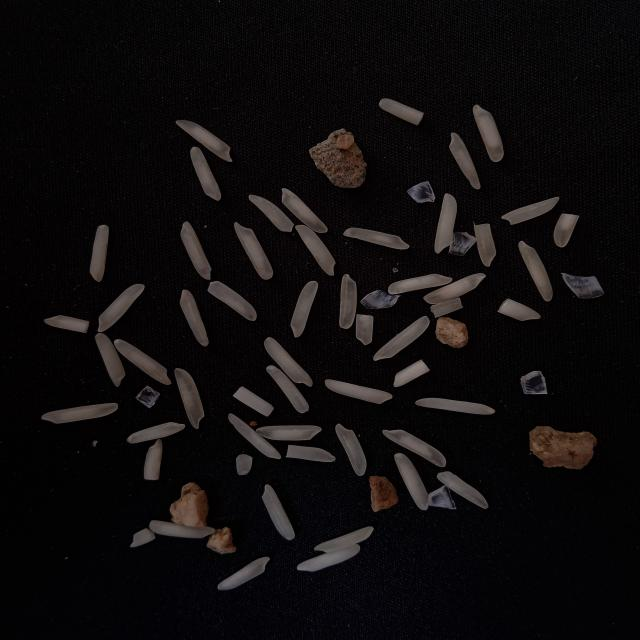Broken: (208, 280, 257, 322), (437, 471, 488, 509), (248, 195, 294, 232), (501, 196, 559, 225), (378, 98, 424, 126), (232, 386, 274, 416), (498, 298, 542, 321), (394, 359, 429, 387), (474, 223, 496, 267), (554, 214, 579, 248), (286, 445, 336, 462), (44, 315, 90, 333), (144, 439, 162, 480), (430, 297, 463, 318), (355, 313, 374, 346), (130, 528, 156, 547), (236, 454, 253, 475)
Full: (114, 339, 172, 385), (228, 413, 282, 460), (374, 316, 430, 361), (176, 120, 234, 163), (382, 429, 447, 467), (264, 337, 312, 387), (234, 222, 273, 280), (98, 284, 144, 332), (295, 224, 337, 276), (518, 240, 552, 302), (282, 188, 328, 233), (266, 365, 309, 413), (394, 453, 429, 510), (423, 272, 485, 304), (448, 132, 482, 190), (174, 368, 205, 429), (180, 221, 212, 280), (262, 484, 295, 540), (473, 104, 504, 162), (296, 544, 360, 572), (218, 556, 270, 590), (324, 379, 393, 404), (41, 402, 118, 424), (191, 147, 222, 201), (335, 424, 367, 476), (180, 289, 208, 347), (290, 280, 318, 338), (95, 333, 125, 387), (314, 526, 374, 553), (343, 228, 410, 250), (416, 397, 496, 415), (434, 193, 456, 254), (388, 274, 454, 294), (127, 422, 185, 444), (149, 520, 216, 538), (90, 225, 108, 282), (339, 274, 357, 329), (256, 426, 322, 440)
